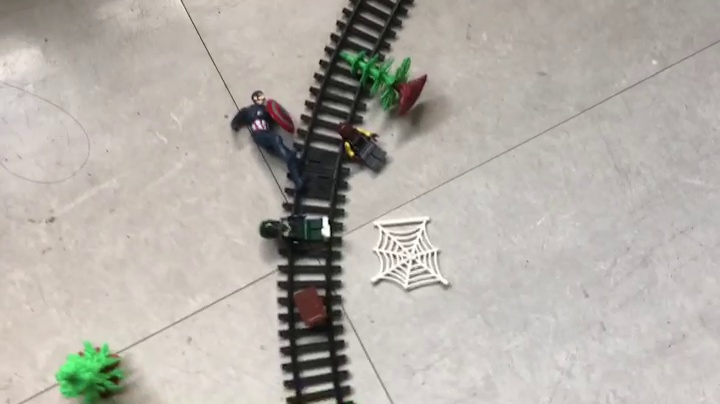box: (290, 288, 328, 331)
people: (230, 91, 309, 192), (258, 215, 333, 252), (336, 122, 388, 171)
tree: (340, 51, 426, 119), (57, 343, 127, 404)
web: (367, 216, 453, 291)
